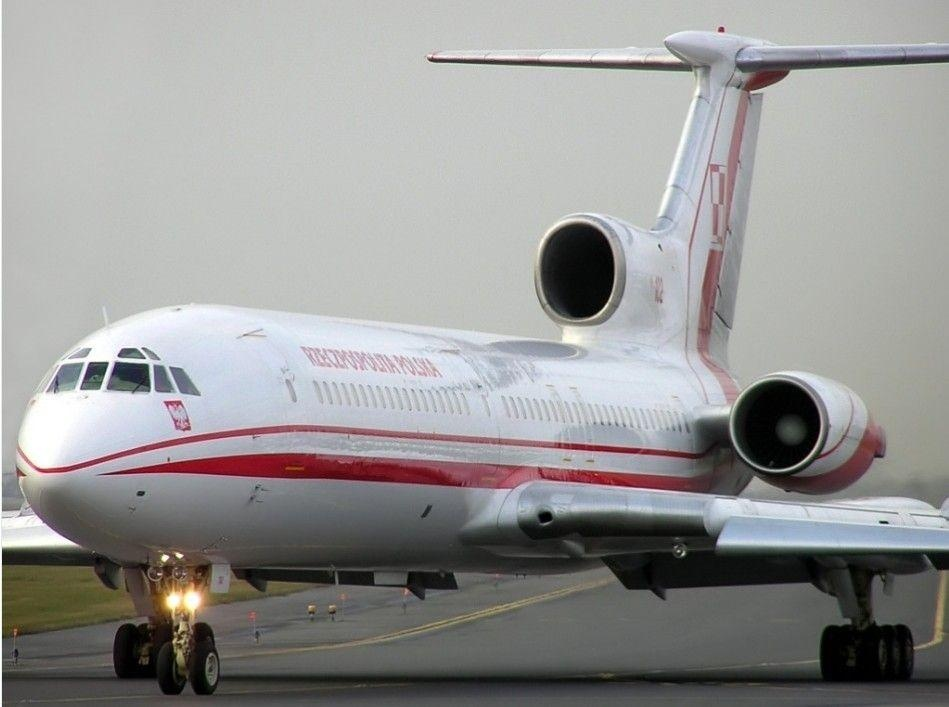airplane: (15, 33, 949, 637)
